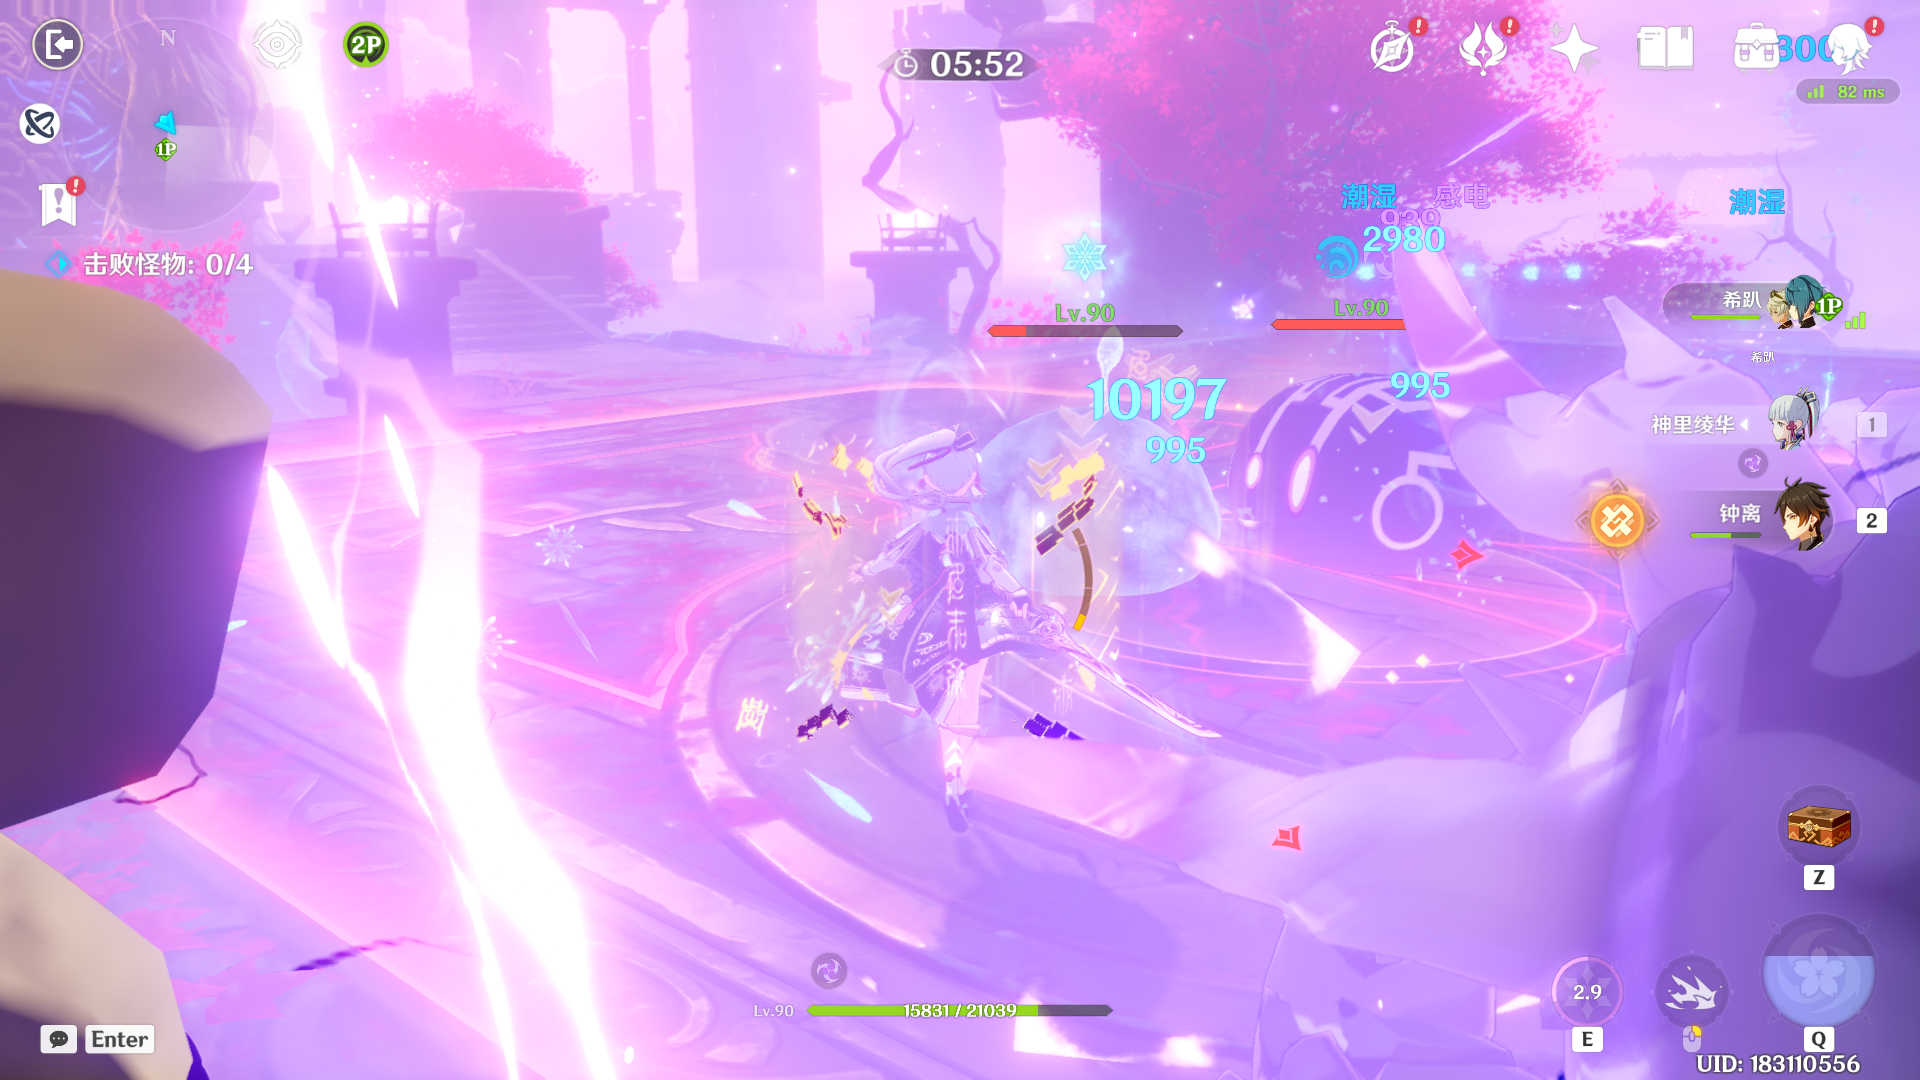character: (816, 402, 1100, 860)
slime: (1218, 364, 1513, 593)
